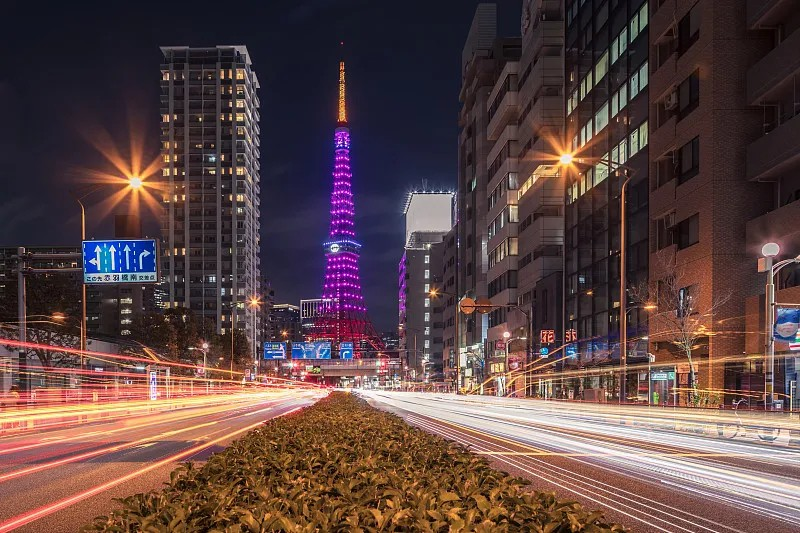Tokyo: (305, 39, 385, 354)
